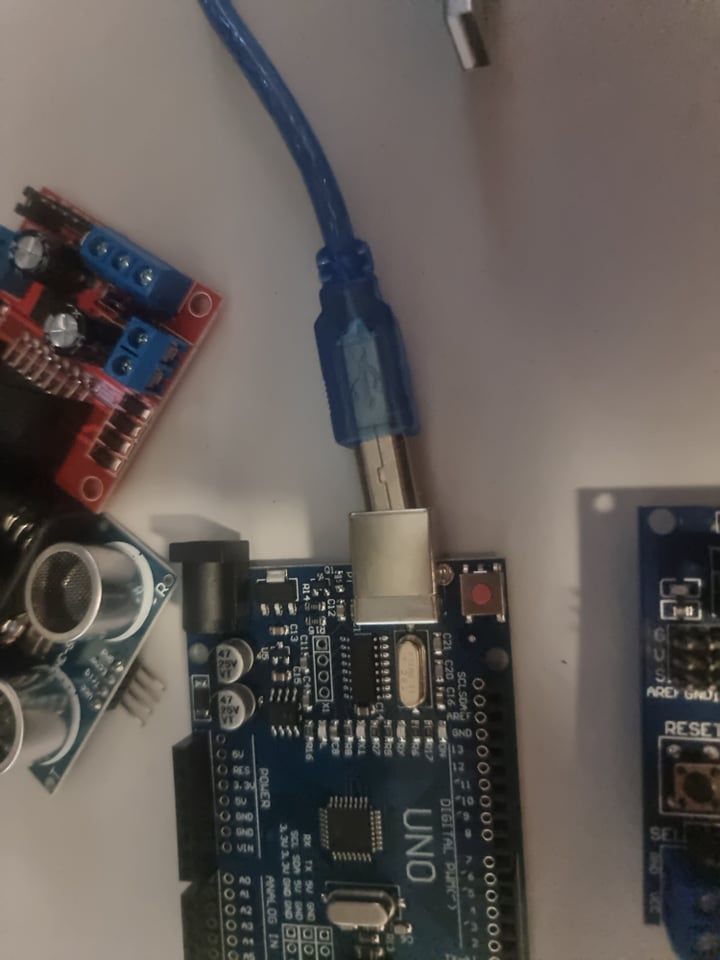5V EXPANSION: (638, 496, 720, 960)
MOTOR: (1, 173, 222, 513)
SENSOR: (1, 516, 172, 795)
UNO R3: (169, 508, 544, 960)
